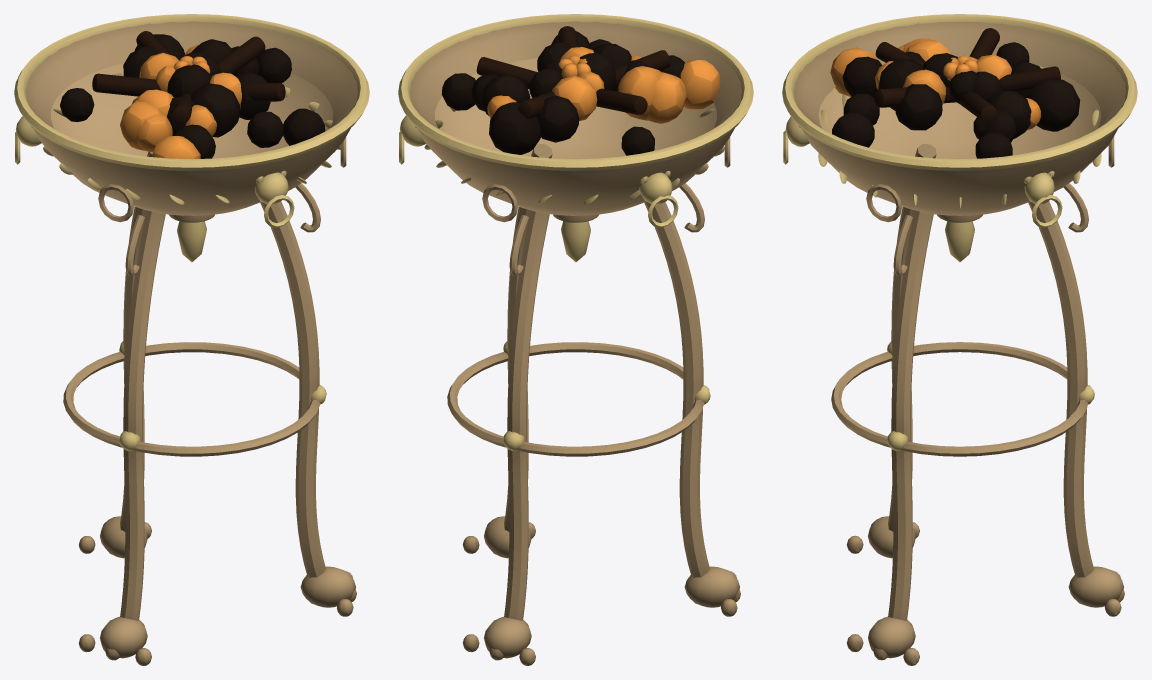
File: obj_kit_brazier.glb
3 views of the same model, side by side, from view 1: azimuth 30°, elevation 25°; view 2: azimuth 150°, elevation 25°; view 3: azimuth 270°, elevation 25° (orthographic).
Parts seen in each view (by area): view 1: bowl, Torus, leg.001, leg.002, Torus.004, Sphere.030, Icosphere.016, Sphere.025, leg, Cylinder.003, Icosphere.022, Icosphere.014 (+20 smaller); view 2: bowl, Torus, leg, leg.001, Torus.004, Icosphere.005, Sphere.025, Icosphere.024, Icosphere.025, leg.002, Sphere.020, Icosphere.015 (+17 smaller); view 3: bowl, Torus, leg.002, leg, Torus.004, Icosphere.005, Icosphere.020, Sphere.020, leg.001, Sphere.030, Icosphere.019, Icosphere.022 (+22 smaller).
Part boxes in pixels (left/top/right/bottom): bowl: left=25, top=21, right=358, bottom=215; Torus: left=14, top=14, right=369, bottom=171; leg.001: left=120, top=210, right=165, bottom=620; leg.002: left=260, top=201, right=325, bottom=577; Torus.004: left=63, top=342, right=320, bottom=456; Sphere.030: left=300, top=566, right=355, bottom=607; Icosphere.016: left=190, top=83, right=240, bottom=137; Sphere.025: left=100, top=616, right=147, bottom=658; leg: left=120, top=151, right=152, bottom=531; Cylinder.003: left=92, top=73, right=161, bottom=96; Icosphere.022: left=283, top=108, right=325, bottom=145; Icosphere.014: left=247, top=111, right=283, bottom=147; bowl: left=409, top=21, right=742, bottom=215; Torus: left=398, top=14, right=753, bottom=171; leg: left=504, top=210, right=549, bottom=620; leg.001: left=644, top=201, right=709, bottom=577; Torus.004: left=447, top=342, right=704, bottom=456; Icosphere.005: left=489, top=102, right=540, bottom=154; Sphere.025: left=684, top=566, right=739, bottom=607; Icosphere.024: left=680, top=60, right=720, bottom=109; Icosphere.025: left=537, top=95, right=579, bottom=142; leg.002: left=504, top=143, right=552, bottom=531; Sphere.020: left=484, top=616, right=531, bottom=658; Icosphere.015: left=646, top=72, right=684, bottom=123; bowl: left=794, top=22, right=1125, bottom=215; Torus: left=782, top=14, right=1137, bottom=171; leg.002: left=888, top=210, right=933, bottom=620; leg: left=1028, top=201, right=1093, bottom=577; Torus.004: left=831, top=342, right=1087, bottom=456; Icosphere.005: left=1028, top=79, right=1080, bottom=131; Icosphere.020: left=895, top=84, right=942, bottom=130; Sphere.020: left=1068, top=566, right=1123, bottom=607; leg.001: left=888, top=143, right=936, bottom=531; Sphere.030: left=868, top=616, right=915, bottom=658; Icosphere.019: left=842, top=56, right=882, bottom=96; Icosphere.022: left=832, top=112, right=874, bottom=147.
Bounding box in the file's own units: 0.704 × 1.19 × 0.704.
